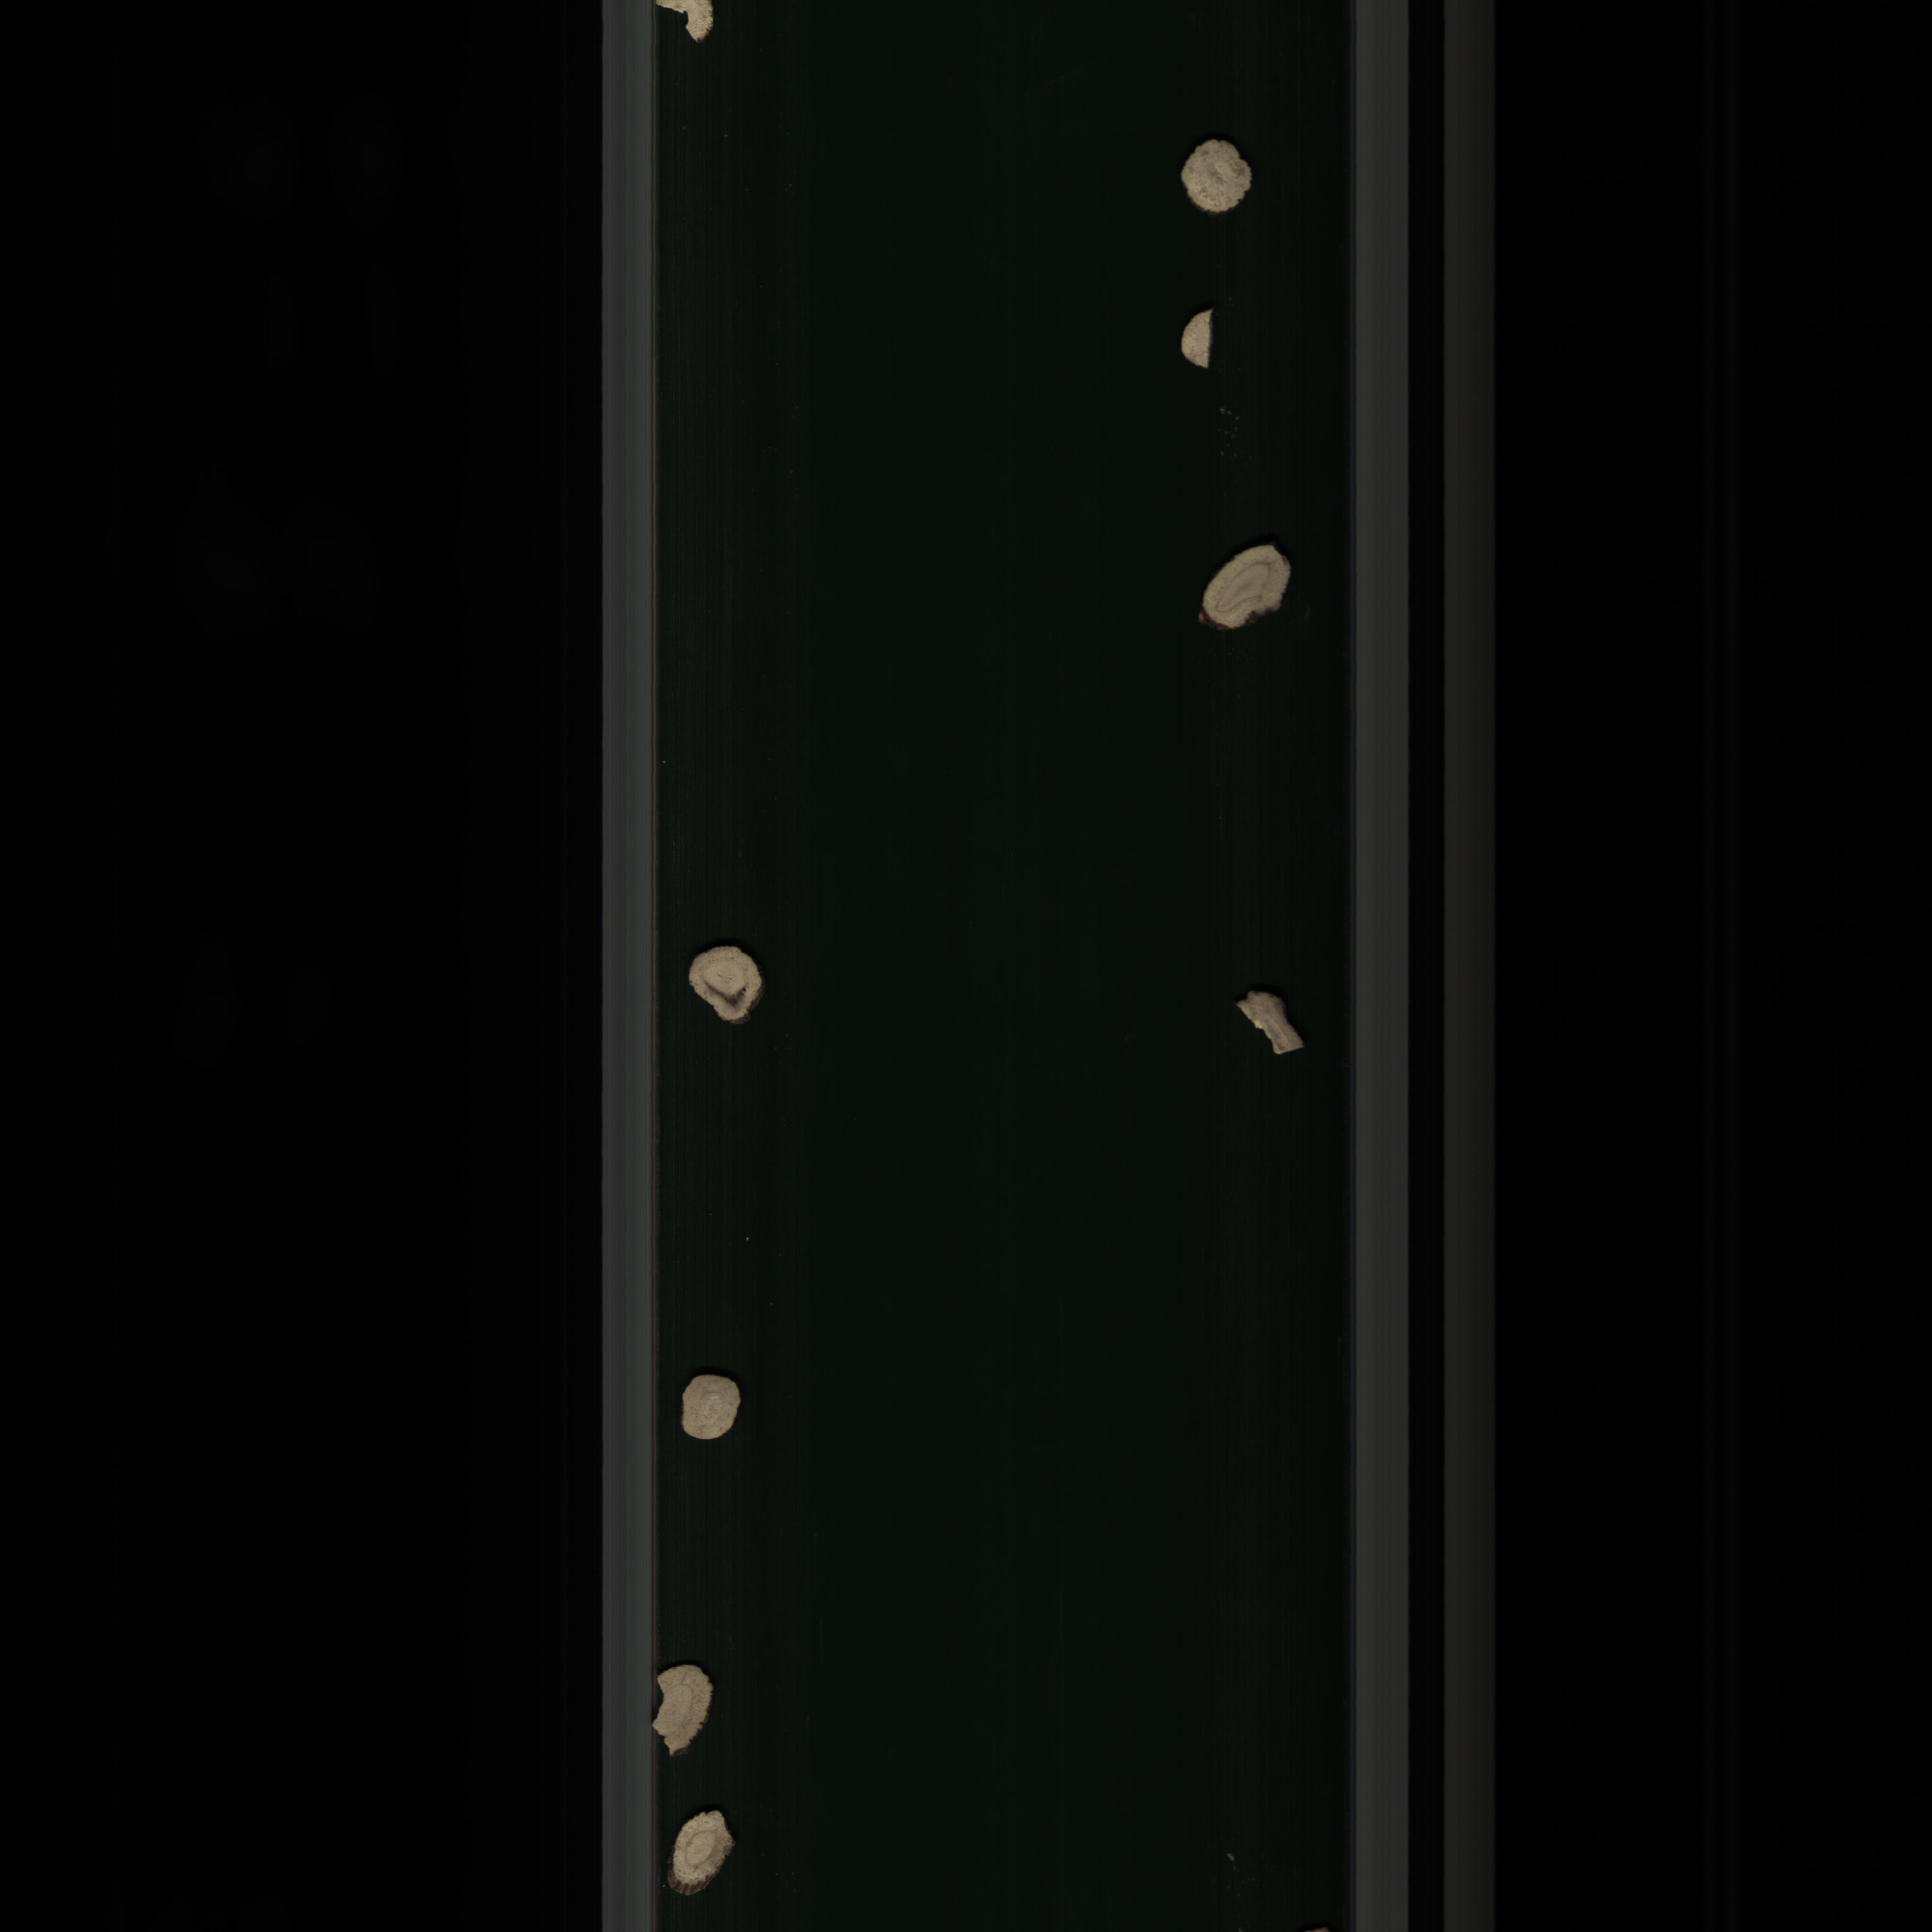debris: (1228, 987, 1311, 1074), (649, 1665, 722, 1757), (1175, 304, 1233, 377)
hole: (674, 947, 775, 1030)
